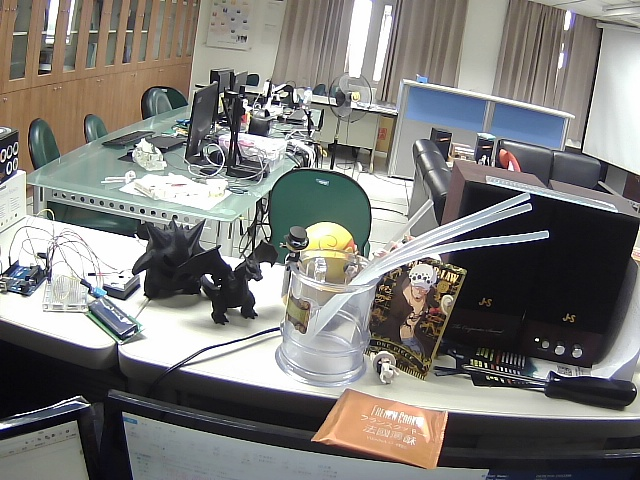frenchcookie: (301, 381, 460, 473)
